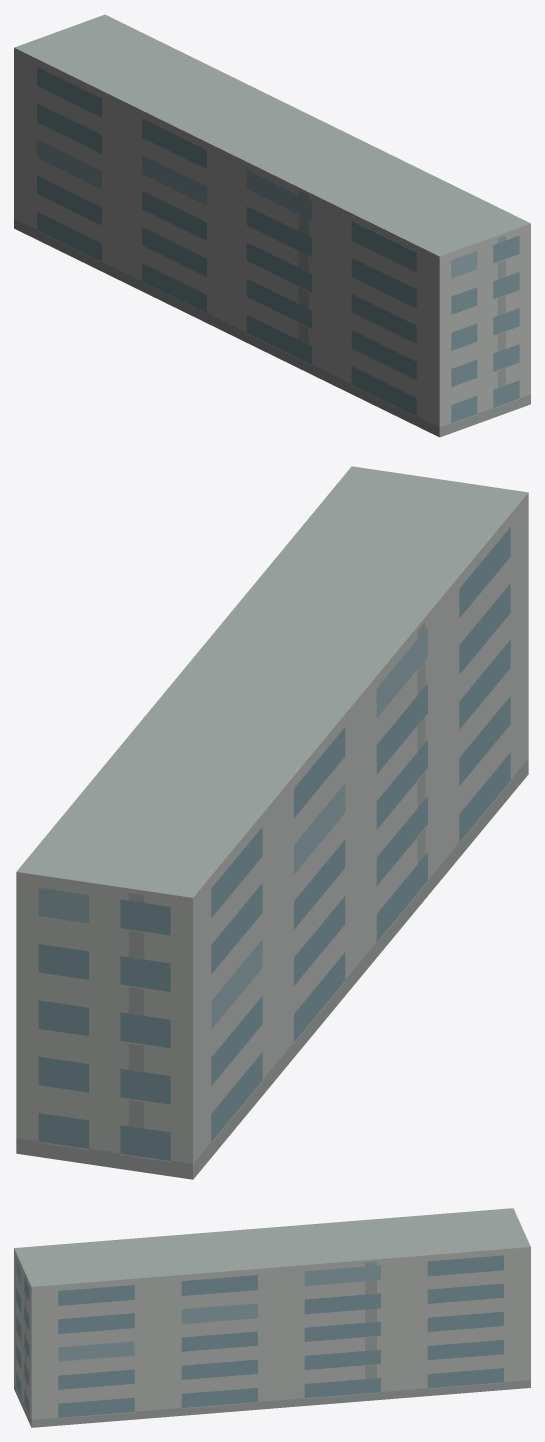
File: residential-255ee9d0-49ff-4bd7-ad9d-39e608de325f.glb
3 renders of one model, top to bottom at view 1: azimuth 30°, elevation 25°; view 2: azimuth 150°, elevation 25°; view 3: azimuth 270°, elevation 25°, orthographic. The views are drawn at different scales.
Parts seen in each view (by area): view 1: residential-255ee9d0-49ff-4bd7-ad9d-39e608de325f.tmp; view 2: residential-255ee9d0-49ff-4bd7-ad9d-39e608de325f.tmp; view 3: residential-255ee9d0-49ff-4bd7-ad9d-39e608de325f.tmp.
Part boxes in pixels (x1=…): residential-255ee9d0-49ff-4bd7-ad9d-39e608de325f.tmp: x1=14, y1=14, x2=530, y2=437; residential-255ee9d0-49ff-4bd7-ad9d-39e608de325f.tmp: x1=16, y1=466, x2=528, y2=1179; residential-255ee9d0-49ff-4bd7-ad9d-39e608de325f.tmp: x1=14, y1=1208, x2=530, y2=1427.
Bounding box in the file's own units: 18.32 × 15.25 × 50.72.
